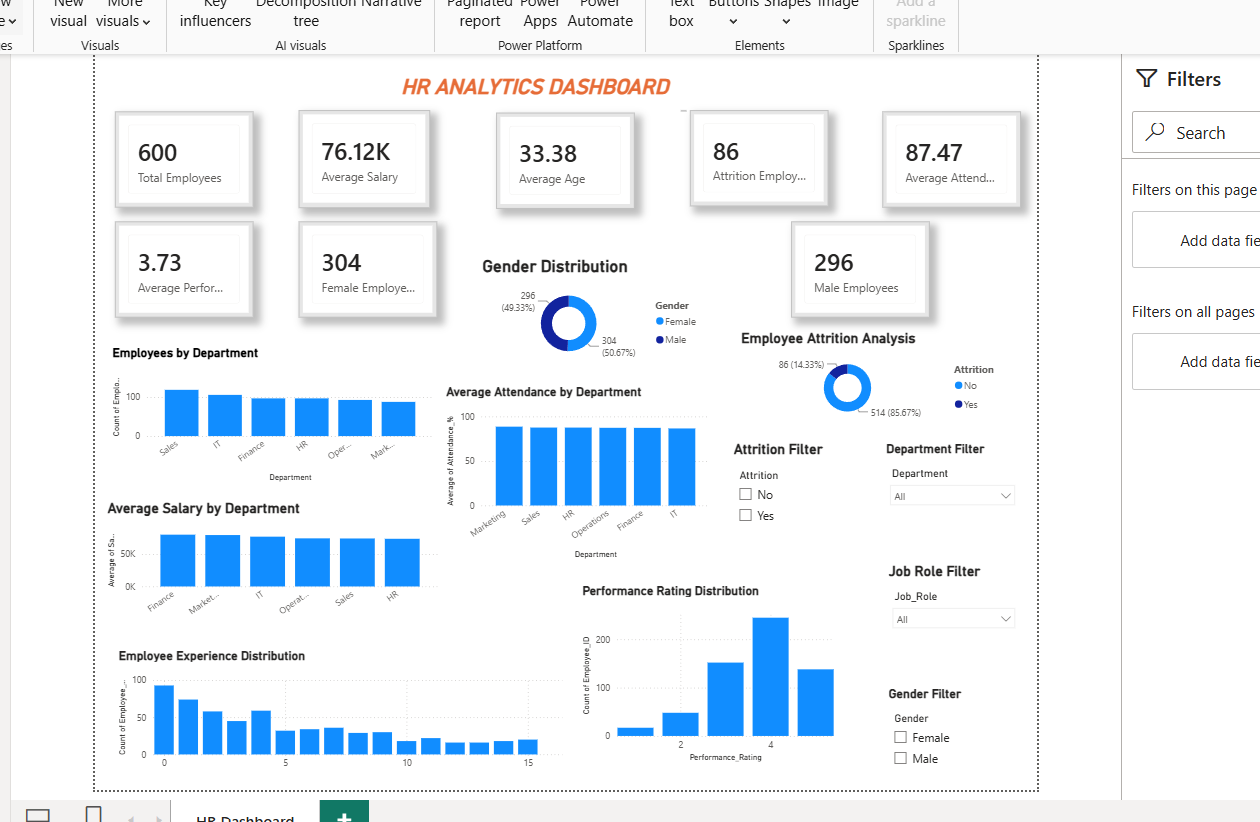

This screenshot's page, from the dashboard's own definition file:
{"tool":"powerbi","page":{"name":"HR Dashboard","canvas":[1280,1000],"ordinal":0},"visuals":[{"type":"cardVisual","fields":{"Data":["Employee_Data1.Total Employees"]},"box":[27.2,78.1,188,130],"z":0},{"type":"clusteredColumnChart","title":"Employees by Department","fields":{"Category":["Employee_Data1.Department"],"Y":["CountNonNull(Employee_Data1.Employee_ID)"]},"box":[18.7,395.7,446.7,190.2],"z":8},{"type":"donutChart","title":"Gender Distribution","fields":{"Category":["Employee_Data1.Gender"],"Y":["CountNonNull(Employee_Data1.Employee_ID)"]},"box":[521.4,275.1,310.8,144.4],"z":9},{"type":"clusteredColumnChart","title":"Average Salary by Department","fields":{"Category":["Employee_Data1.Department"],"Y":["Avg(Employee_Data1.Salary)"]},"box":[11.9,606.3,460.3,168.1],"z":10},{"type":"clusteredColumnChart","title":"Performance Rating Distribution","fields":{"Category":["Employee_Data1.Performance_Rating"],"Y":["CountNonNull(Employee_Data1.Employee_ID)"]},"box":[657.3,718.4,351.6,248],"z":11},{"type":"clusteredColumnChart","title":"Average Attendance by Department","fields":{"Category":["Employee_Data1.Department"],"Y":["Avg(Employee_Data1.Attendance_%)"]},"box":[472.1,448.4,368.5,242.9],"z":12},{"type":"donutChart","title":"Employee Attrition Analysis","fields":{"Category":["Employee_Data1.Attrition"],"Y":["CountNonNull(Employee_Data1.Employee_ID)"]},"box":[873,375.3,370.2,124],"z":13},{"type":"clusteredColumnChart","title":"Employee Experience Distribution","fields":{"Category":["Employee_Data1.Experience_Years"],"Y":["CountNonNull(Employee_Data1.Employee_ID)"]},"box":[27.2,806.7,613.1,174.9],"z":14},{"type":"slicer","title":"Department Filter","fields":{"Values":["Employee_Data1.Department"]},"box":[1070,526.5,190.2,118.9],"z":15},{"type":"slicer","title":"Gender Filter","fields":{"Values":["Employee_Data1.Gender"]},"box":[1073.4,859.4,186.8,125.7],"z":16},{"type":"slicer","title":"Job Role Filter","fields":{"Values":["Employee_Data1.Job_Role"]},"box":[1073.4,691.2,186.8,115.5],"z":17},{"type":"slicer","title":"Attrition Filter","fields":{"Values":["Employee_Data1.Attrition"]},"box":[862.8,526.5,164.7,122.3],"z":18},{"type":"textbox","title":"HR ANALYTICS DASHBOARD","box":[411,27.2,397.4,56],"z":19},{"type":"cardVisual","fields":{"Data":["Employee_Data1.Average Salary"]},"box":[276.8,76.4,178.3,132.5],"z":22},{"type":"cardVisual","fields":{"Data":["Employee_Data1.Average Age"]},"box":[545.2,79.8,188,130],"z":23},{"type":"cardVisual","fields":{"Data":["Employee_Data1.Attrition Employees"]},"box":[808.4,76.4,188,130],"z":24},{"type":"cardVisual","fields":{"Data":["Employee_Data1.Average Attendance"]},"box":[1070,78.1,188,130],"z":25},{"type":"cardVisual","fields":{"Data":["Employee_Data1.Male Employees"]},"box":[946,227.6,188,130],"z":26},{"type":"cardVisual","fields":{"Data":["Employee_Data1.Female Employees"]},"box":[276.8,227.6,188,130],"z":27},{"type":"cardVisual","fields":{"Data":["Employee_Data1.Average Performance"]},"box":[27.2,227.6,188,130],"z":28}]}

Visuals, with their boxes on the page's 1280x1000 design canvas (x1, y1, x2, y2). These are canvas units, not pixel positions in the 1260x822 screenshot, which may show the page scaled, cropped or inside an application window:
cardVisual - Employee_Data1.Total Employees: (x1=27, y1=78, x2=215, y2=208)
"Employees by Department" clusteredColumnChart: (x1=19, y1=396, x2=465, y2=586)
"Gender Distribution" donutChart: (x1=521, y1=275, x2=832, y2=420)
"Average Salary by Department" clusteredColumnChart: (x1=12, y1=606, x2=472, y2=774)
"Performance Rating Distribution" clusteredColumnChart: (x1=657, y1=718, x2=1009, y2=966)
"Average Attendance by Department" clusteredColumnChart: (x1=472, y1=448, x2=841, y2=691)
"Employee Attrition Analysis" donutChart: (x1=873, y1=375, x2=1243, y2=499)
"Employee Experience Distribution" clusteredColumnChart: (x1=27, y1=807, x2=640, y2=982)
"Department Filter" slicer: (x1=1070, y1=526, x2=1260, y2=645)
"Gender Filter" slicer: (x1=1073, y1=859, x2=1260, y2=985)
"Job Role Filter" slicer: (x1=1073, y1=691, x2=1260, y2=807)
"Attrition Filter" slicer: (x1=863, y1=526, x2=1028, y2=649)
"HR ANALYTICS DASHBOARD" textbox: (x1=411, y1=27, x2=808, y2=83)
cardVisual - Employee_Data1.Average Salary: (x1=277, y1=76, x2=455, y2=209)
cardVisual - Employee_Data1.Average Age: (x1=545, y1=80, x2=733, y2=210)
cardVisual - Employee_Data1.Attrition Employees: (x1=808, y1=76, x2=996, y2=206)
cardVisual - Employee_Data1.Average Attendance: (x1=1070, y1=78, x2=1258, y2=208)
cardVisual - Employee_Data1.Male Employees: (x1=946, y1=228, x2=1134, y2=358)
cardVisual - Employee_Data1.Female Employees: (x1=277, y1=228, x2=465, y2=358)
cardVisual - Employee_Data1.Average Performance: (x1=27, y1=228, x2=215, y2=358)
